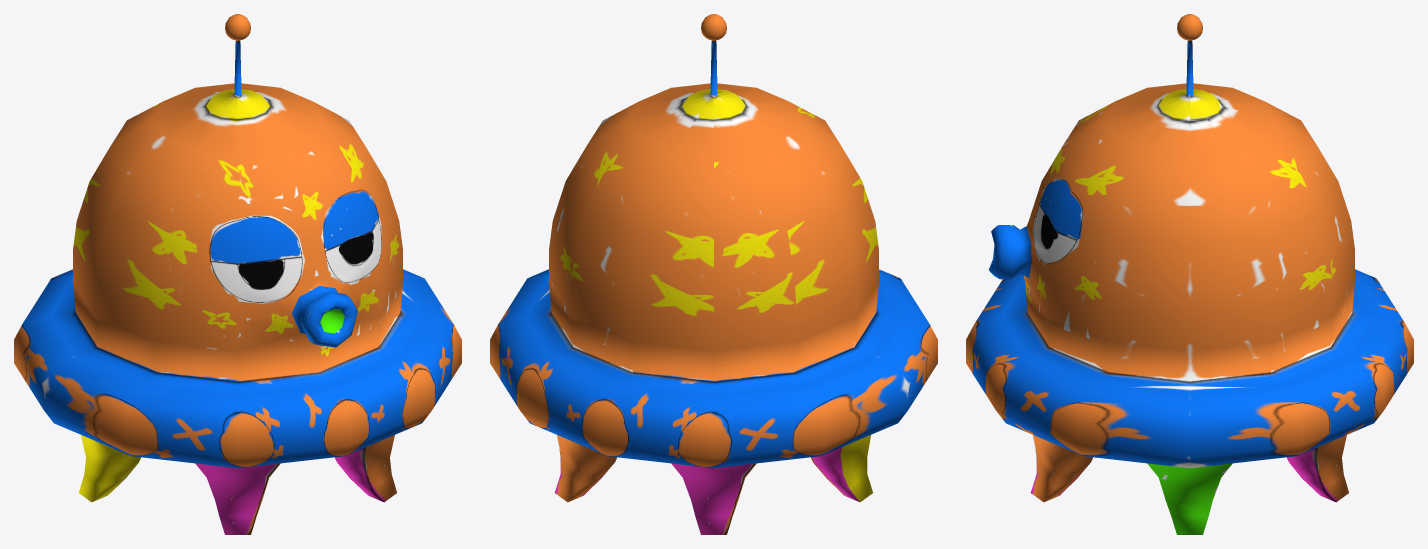
The model's file is feichuan_D.FBX.
The picture shows the model from 3 angles, left to right: view 1: azimuth 30°, elevation 25°; view 2: azimuth 150°, elevation 25°; view 3: azimuth 270°, elevation 25°; orthographic projection.
Parts seen in each view (by area): view 1: feichuan_D; view 2: feichuan_D; view 3: feichuan_D.
Boxes of the visible parts, x1=… form: feichuan_D: x1=14, y1=14, x2=461, y2=534; feichuan_D: x1=490, y1=14, x2=937, y2=534; feichuan_D: x1=966, y1=14, x2=1413, y2=534.
Size of the model in its own units: 142 by 156 by 142.
Materials: 1 (1 with a texture image).
